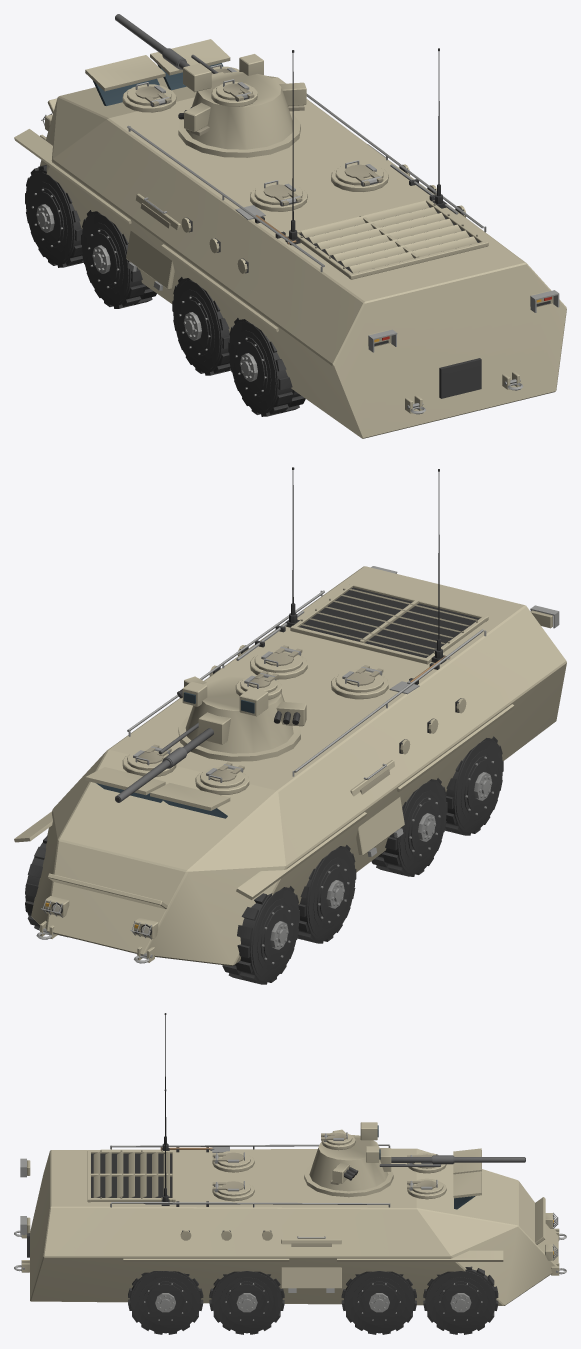
File: rus_apc_btr82.glb
The picture shows the model from 3 angles, top to bottom: view 1: azimuth 30°, elevation 25°; view 2: azimuth 150°, elevation 25°; view 3: azimuth 270°, elevation 25°; orthographic projection. The views are drawn at different scales.
Parts seen in each view (by area): view 1: body, turret, wheel_6, wheel_2, wheel_0, wheel_4, barrel; view 2: body, turret, wheel_0, wheel_4, wheel_6, wheel_2, barrel, wheel_1; view 3: body, turret, wheel_1, wheel_7, wheel_5, wheel_3, barrel.
Boxes of the visible parts, bbox=[...] form: body: bbox=[14, 39, 566, 438]; turret: bbox=[178, 54, 306, 157]; wheel_6: bbox=[228, 318, 305, 416]; wheel_2: bbox=[81, 210, 156, 308]; wheel_0: bbox=[25, 165, 83, 267]; wheel_4: bbox=[172, 277, 230, 375]; barrel: bbox=[115, 14, 223, 76]; body: bbox=[14, 467, 566, 965]; turret: bbox=[177, 671, 306, 761]; wheel_0: bbox=[222, 886, 299, 984]; wheel_4: bbox=[371, 778, 447, 876]; wheel_6: bbox=[445, 736, 503, 835]; wheel_2: bbox=[297, 845, 356, 943]; barrel: bbox=[115, 712, 230, 802]; wheel_1: bbox=[25, 835, 67, 937]; body: bbox=[14, 1013, 566, 1305]; turret: bbox=[304, 1122, 393, 1197]; wheel_1: bbox=[423, 1266, 498, 1334]; wheel_7: bbox=[128, 1271, 203, 1334]; wheel_5: bbox=[209, 1271, 284, 1334]; wheel_3: bbox=[341, 1271, 416, 1334]; barrel: bbox=[379, 1148, 525, 1171].
Size of the model in its own units: 3.01 by 4.17 by 8.15.
